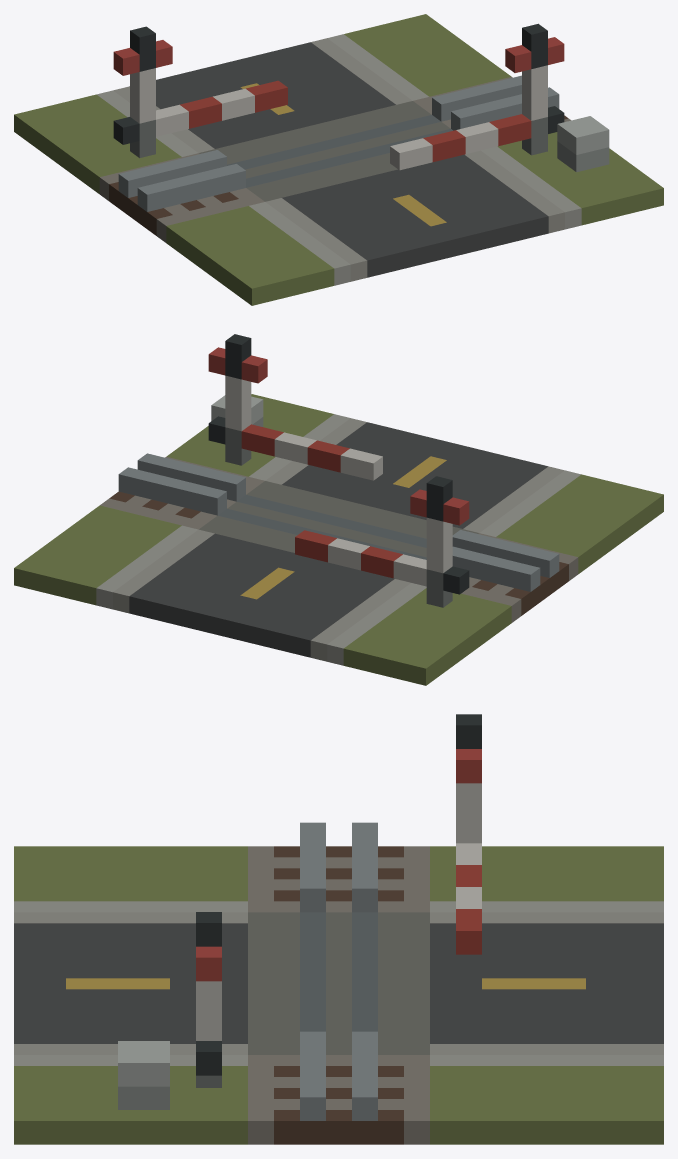
File: Claude_railway_crossing.glb
The picture shows the model from 3 angles, top to bottom: view 1: azimuth 30°, elevation 25°; view 2: azimuth 150°, elevation 25°; view 3: azimuth 270°, elevation 25°; orthographic projection. The views are drawn at different scales.
Parts seen in each view (by area): view 1: Claude_railway_crossing; view 2: Claude_railway_crossing; view 3: Claude_railway_crossing.
Part boxes in pixels (box(x1,y1,x2,y2)): Claude_railway_crossing: box(14, 14, 663, 305); Claude_railway_crossing: box(14, 334, 663, 685); Claude_railway_crossing: box(14, 714, 663, 1144).
Bounding box in the file's own units: 12.5 × 4 × 12.5.
